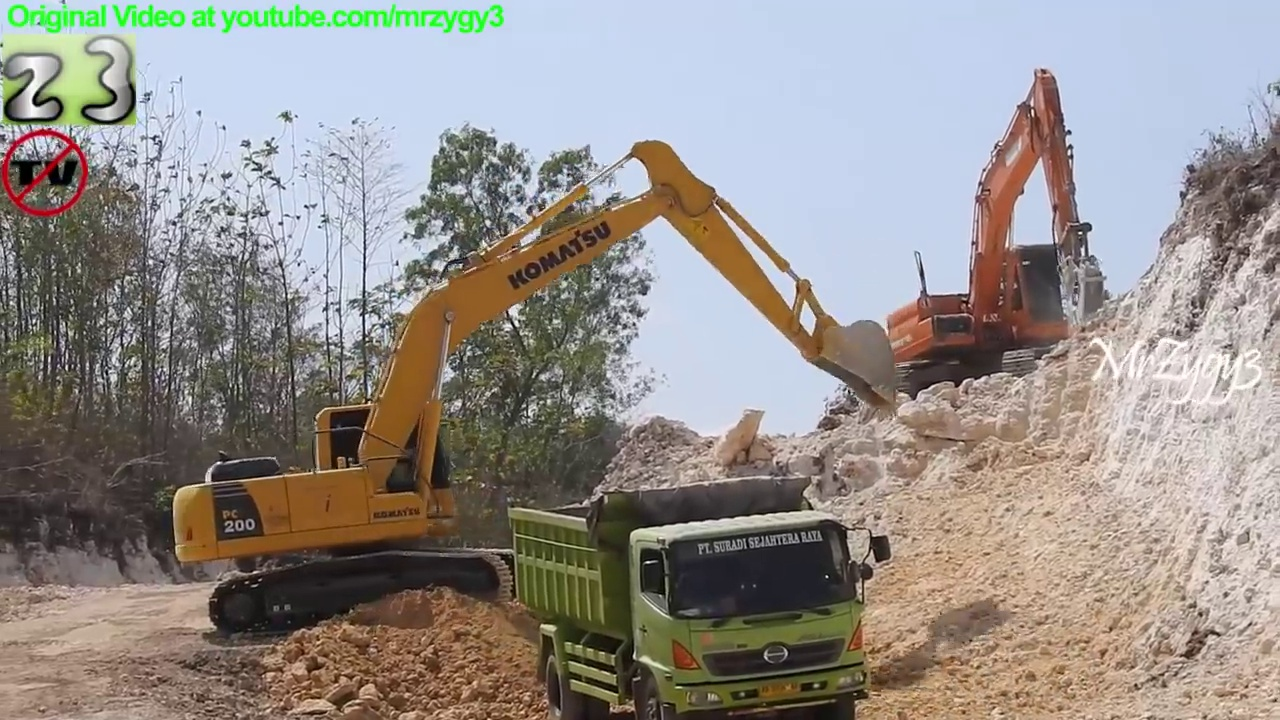excavator: (168, 137, 898, 645), (884, 62, 1127, 414)
truck: (502, 469, 898, 720)
